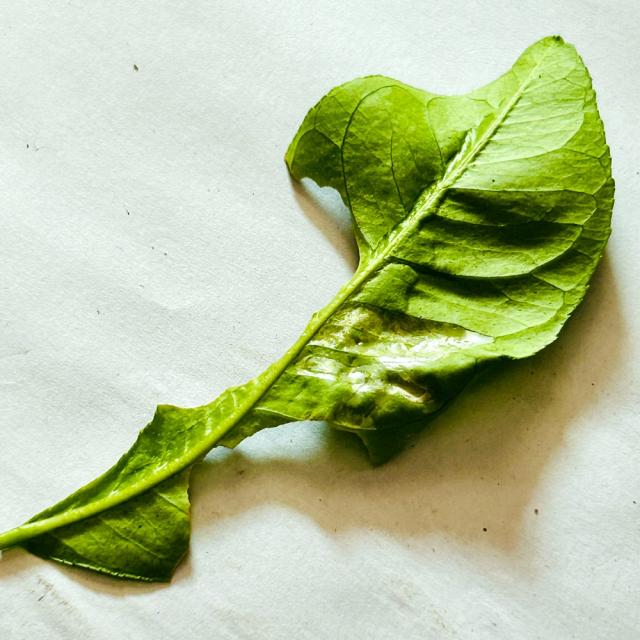Deficiency Leaf: (32, 170, 360, 509), (192, 418, 375, 560)
Lemon: (26, 38, 611, 580)
